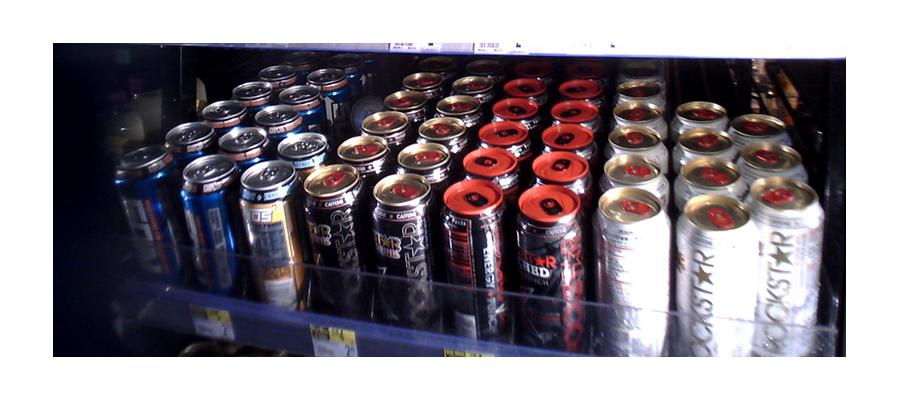bottle: (596, 184, 671, 357), (681, 191, 759, 354), (752, 175, 821, 355), (517, 178, 587, 347), (441, 177, 507, 334), (111, 150, 176, 296), (370, 176, 434, 323), (304, 166, 364, 312), (242, 165, 302, 307), (181, 158, 239, 294)
